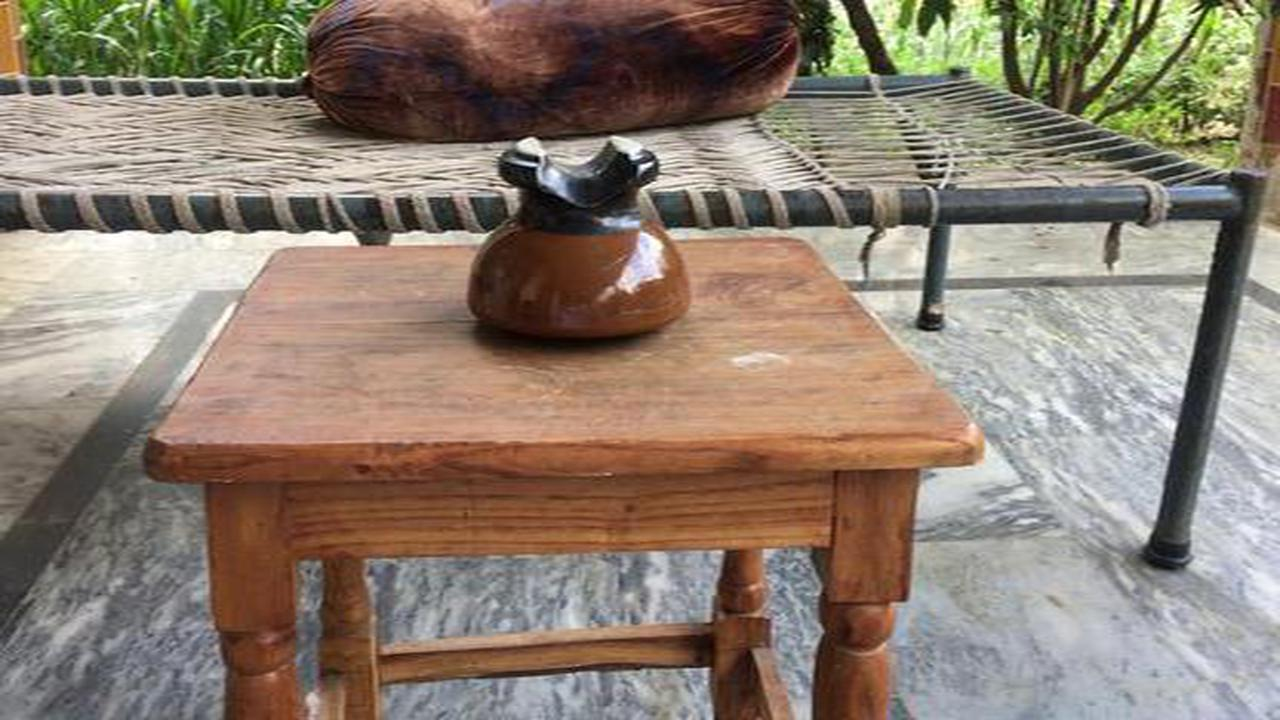insulator_pin: (453, 123, 717, 362)
